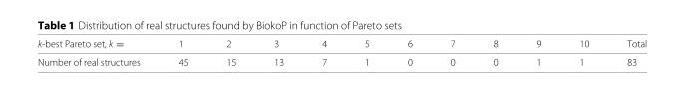table: (36, 37, 646, 67)
table column: (36, 37, 158, 67), (158, 37, 206, 67), (206, 37, 254, 67), (254, 37, 302, 67), (559, 37, 607, 67), (302, 37, 345, 67), (387, 37, 430, 67), (430, 37, 473, 67), (473, 37, 516, 67), (516, 37, 559, 67), (345, 37, 387, 67), (607, 37, 646, 67)
table column header: (36, 37, 646, 55)
table row: (36, 37, 646, 55), (36, 55, 646, 67)
